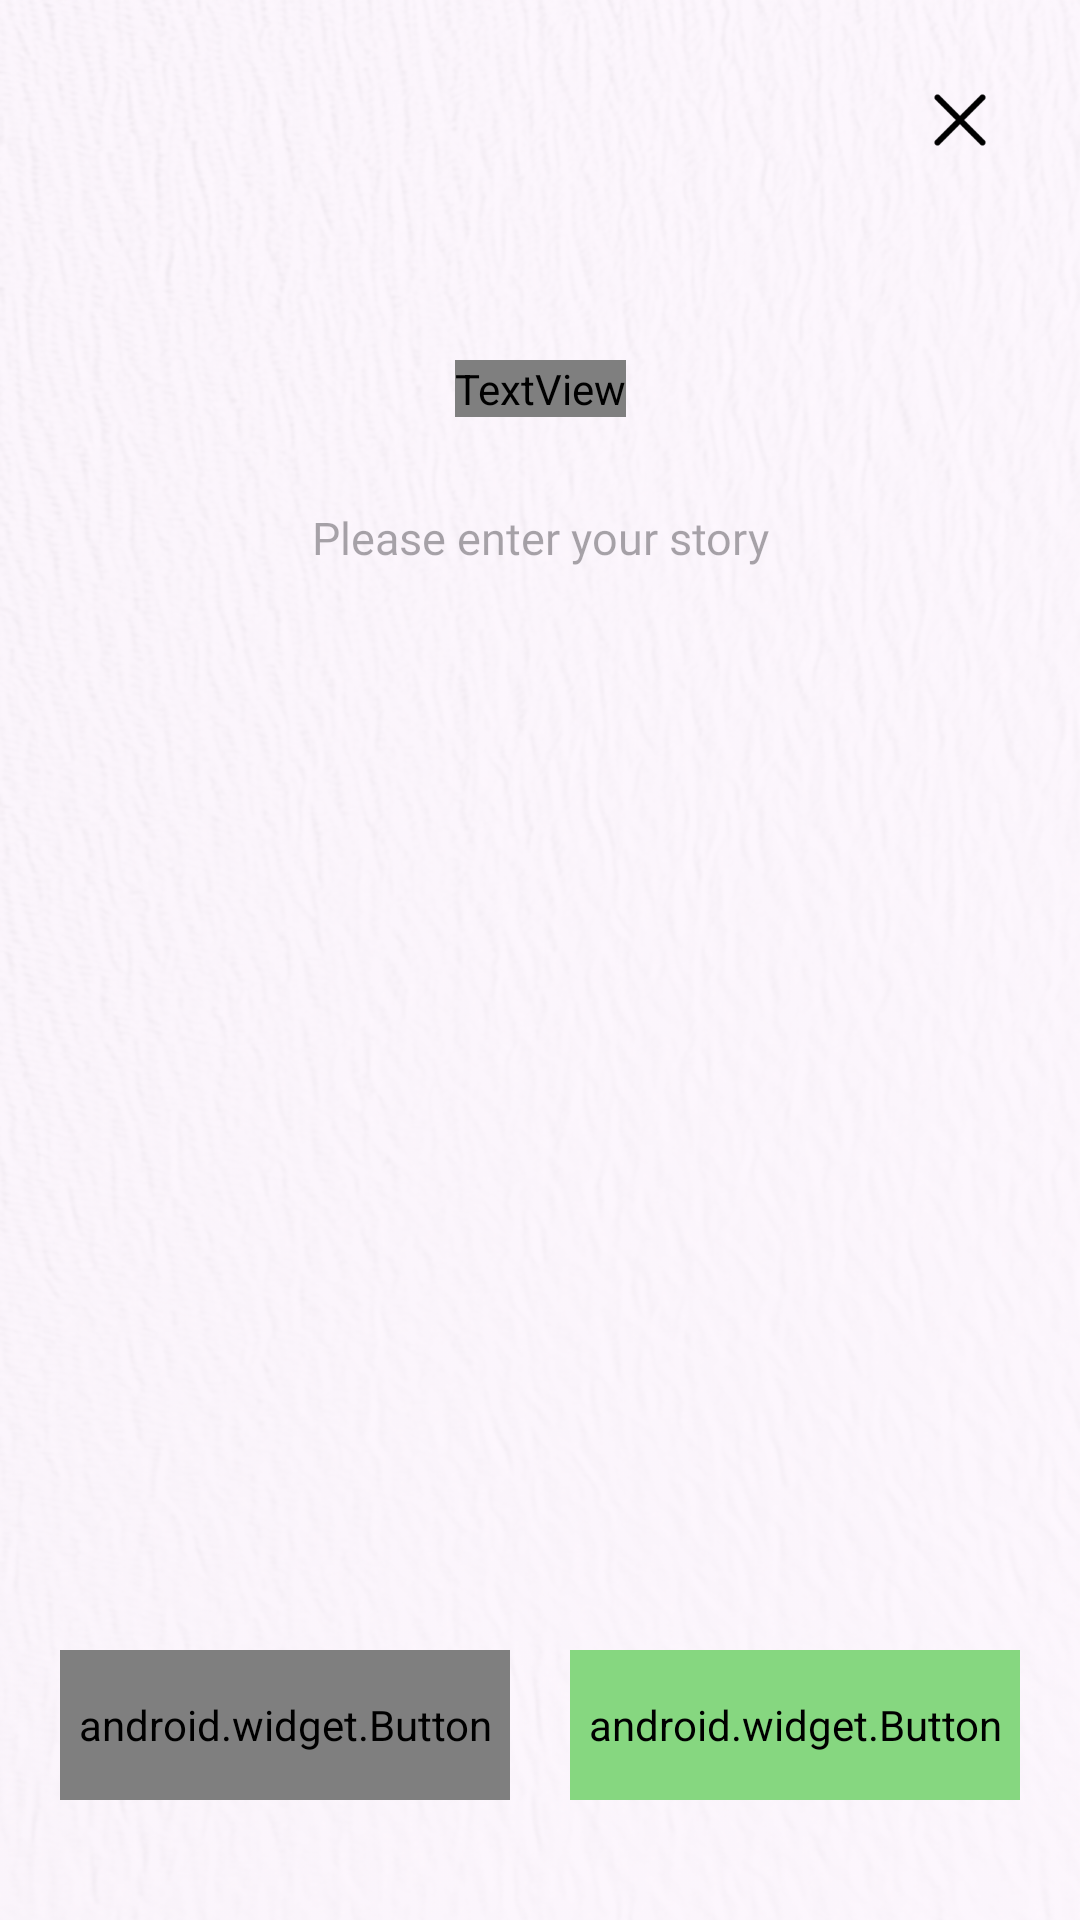

Where to tap for icons on this 1080x1920 app screen, as (x=x, y=y):
cancel: (x=960, y=120)
